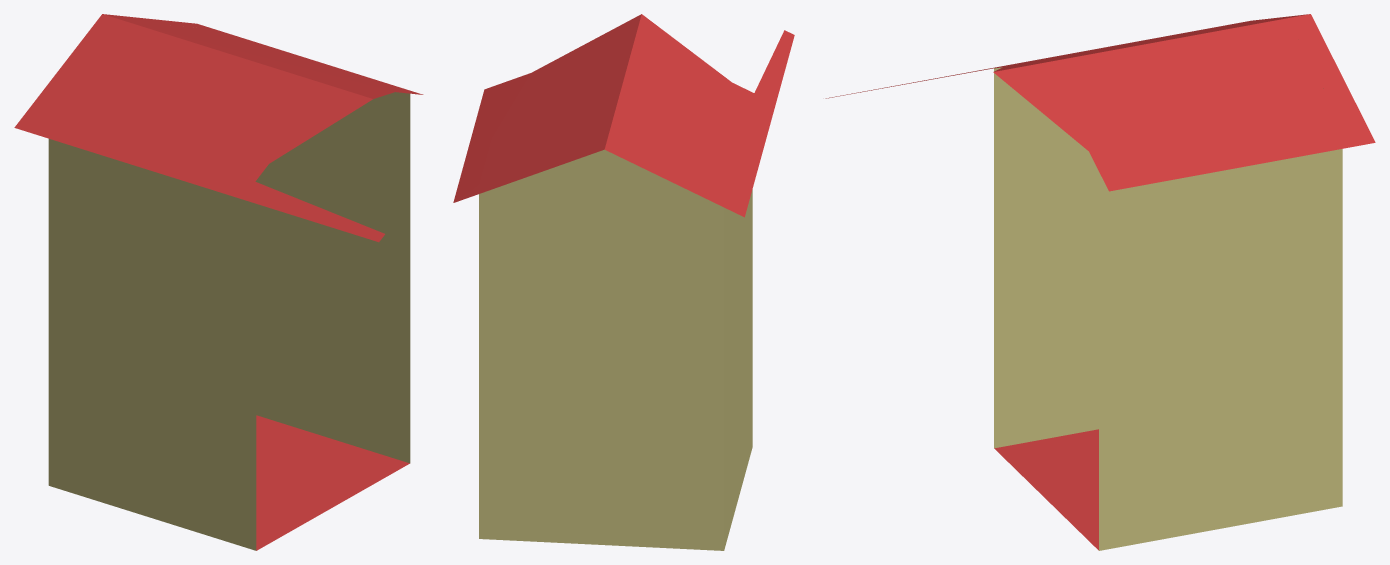
The picture shows the model from 3 angles, left to right: view 1: azimuth 30°, elevation 25°; view 2: azimuth 150°, elevation 25°; view 3: azimuth 270°, elevation 25°; orthographic projection. The views are drawn at different scales.
Size of the model in its own units: 8.06 by 11.02 by 9.56.
